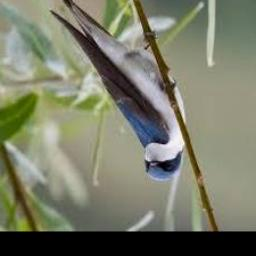Swallow: (50, 0, 187, 181)
